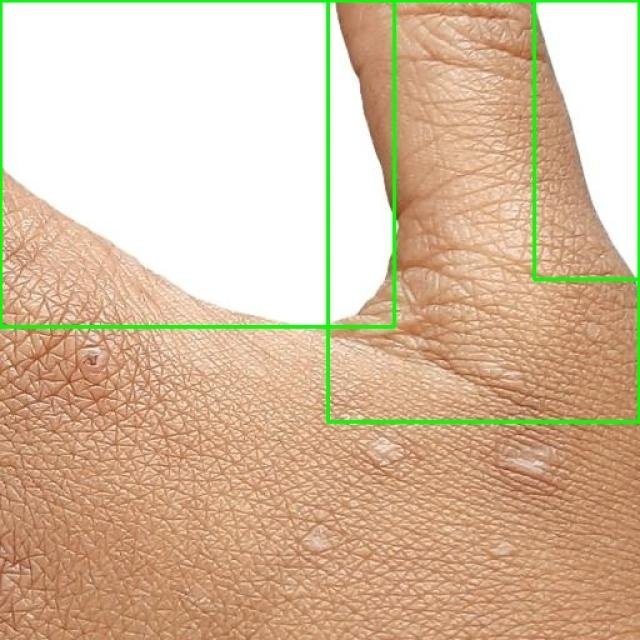Scabies: (328, 0, 639, 422), (0, 0, 394, 326), (534, 0, 639, 279)
